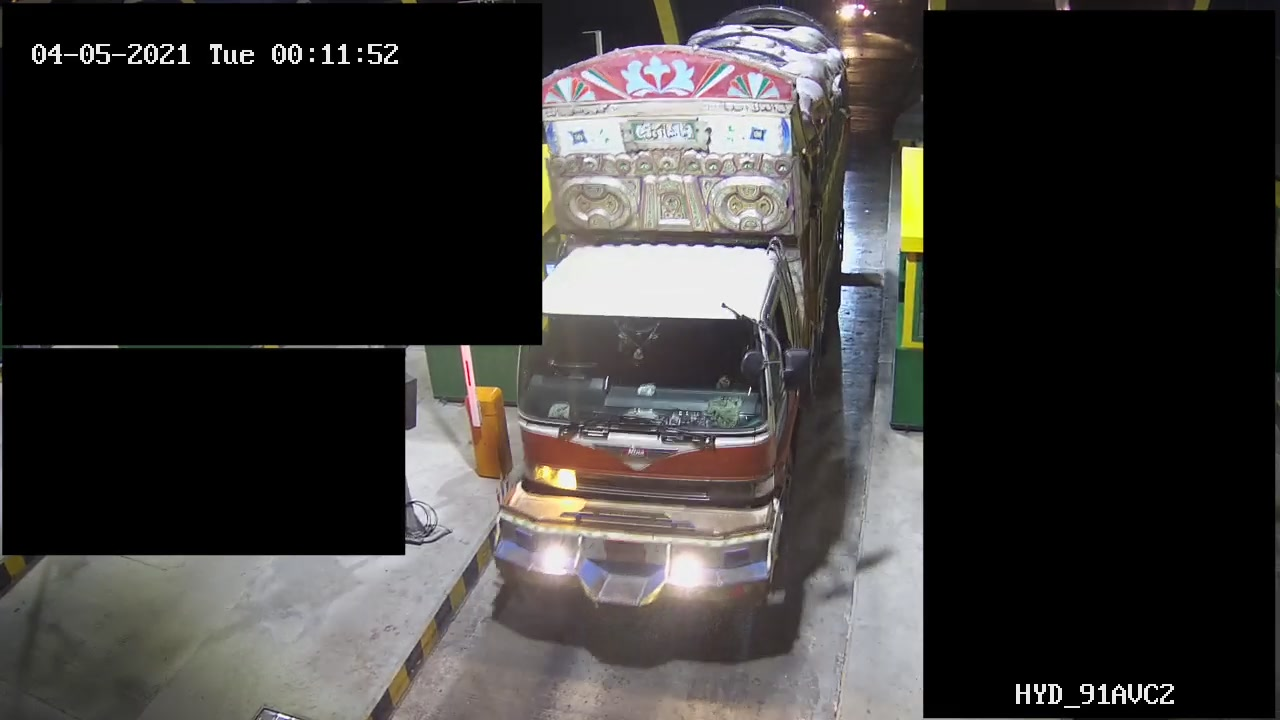F5: (481, 6, 856, 621)
